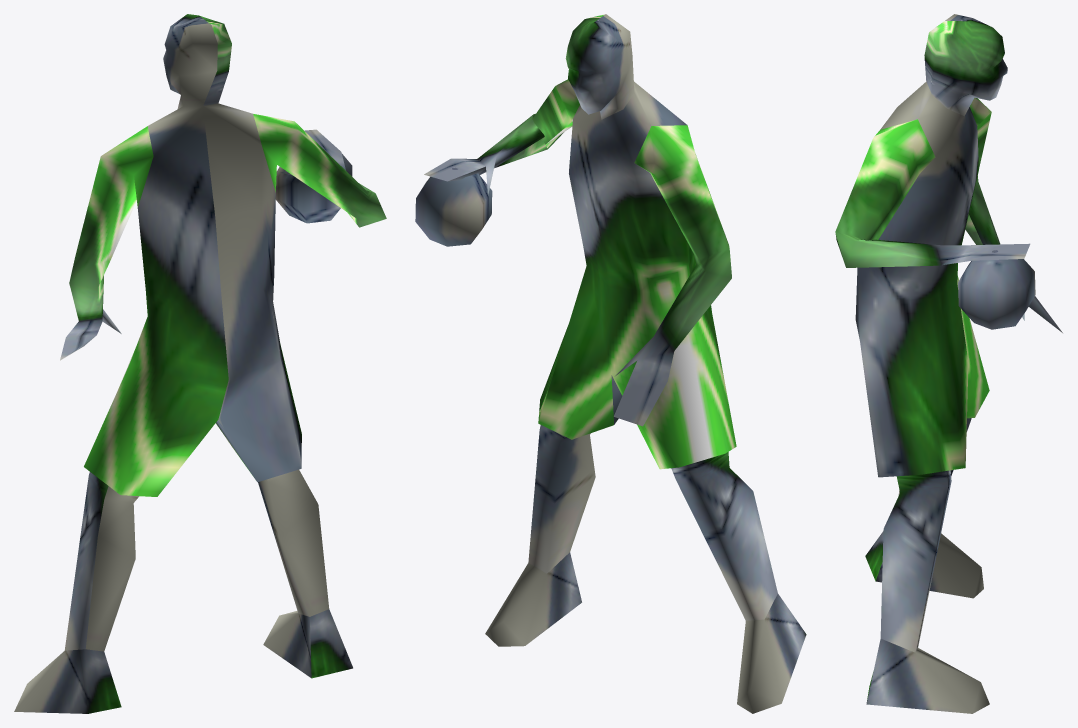
Rendered from icon.ico.obj.
3 views of the same model, side by side, from view 1: azimuth 30°, elevation 25°; view 2: azimuth 150°, elevation 25°; view 3: azimuth 270°, elevation 25° (orthographic).
Bounding box in the file's own units: 2.74 × 4.9 × 1.56.
